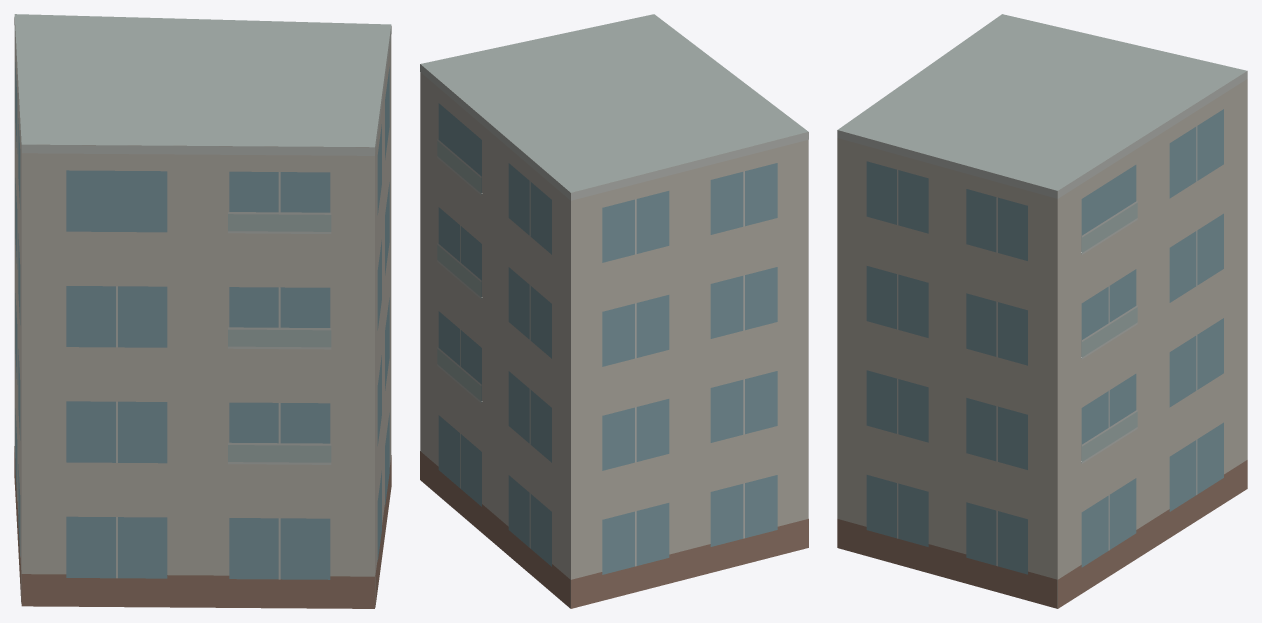
The model's file is survey-upis-32730386.glb.
3 renders of one model, left to right at view 1: azimuth 30°, elevation 25°; view 2: azimuth 150°, elevation 25°; view 3: azimuth 270°, elevation 25°, orthographic. The views are drawn at different scales.
Visible parts, largest first — view 1: survey-upis-32730386.tmp; view 2: survey-upis-32730386.tmp; view 3: survey-upis-32730386.tmp.
Boxes of the visible parts, bbox=[...] form: survey-upis-32730386.tmp: bbox=[14, 14, 391, 608]; survey-upis-32730386.tmp: bbox=[420, 14, 808, 608]; survey-upis-32730386.tmp: bbox=[837, 14, 1247, 608].
Bounding box in the file's own units: 11.63 × 12.8 × 11.39.
